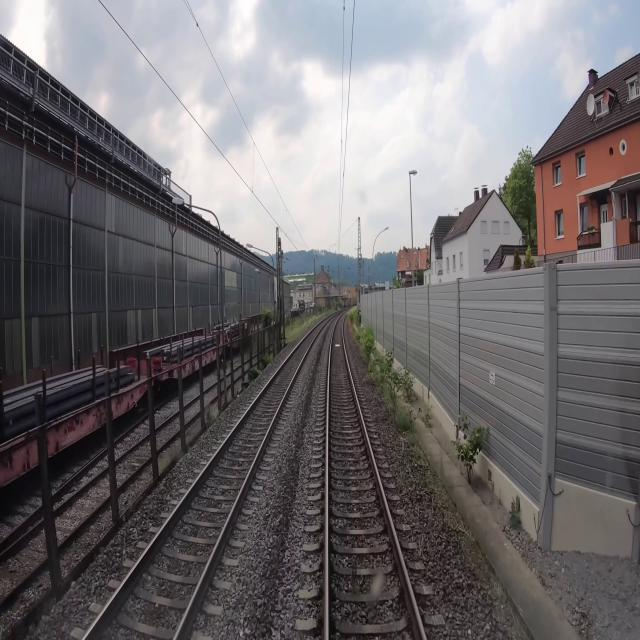Plant: (392, 458, 408, 486), (347, 310, 358, 321), (365, 367, 373, 381), (361, 352, 368, 365), (351, 322, 355, 331), (358, 345, 362, 353), (356, 335, 359, 340)
